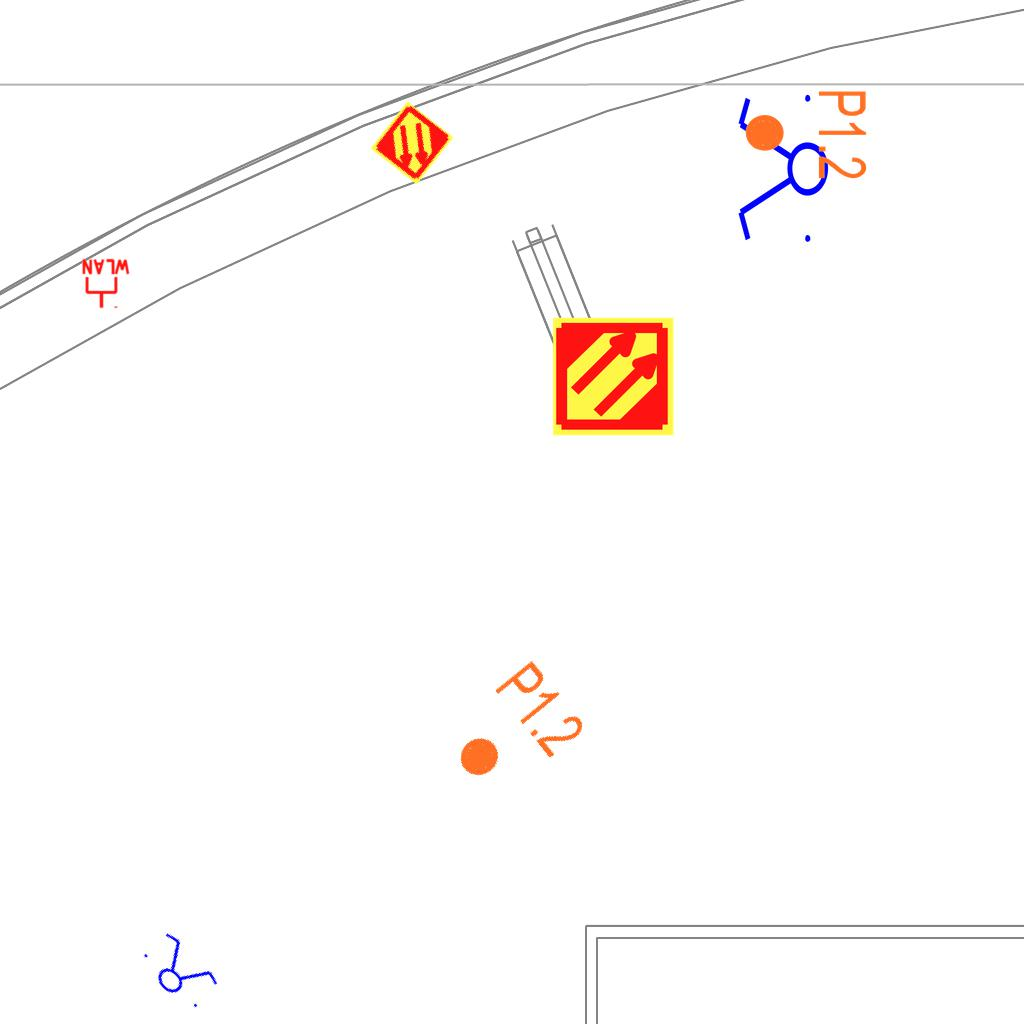ASR_Ansaugrauchmelder: (551, 314, 676, 439), (368, 99, 456, 187)
Downlight_LED_Einbauleuchten_Flur: (433, 655, 592, 809), (742, 88, 870, 181)
Serienschalter: (734, 86, 830, 254), (132, 924, 226, 1018)
WLAN: (80, 258, 132, 310)
